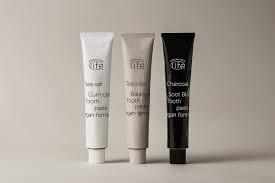toothpaste: (74, 30, 115, 162), (160, 25, 193, 166), (121, 32, 154, 166)
